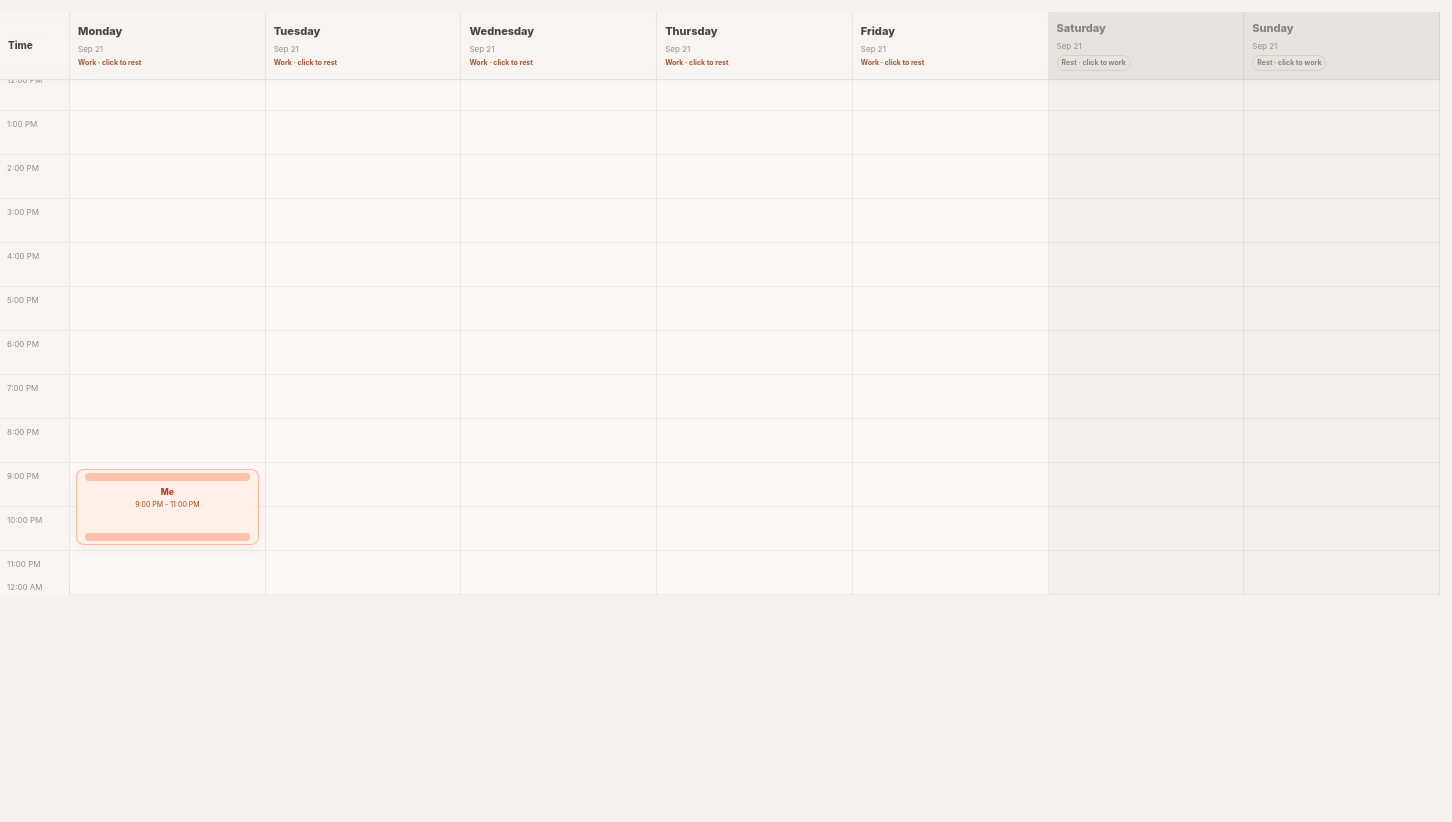
Test: EditableTeamCalendar pointer gestures › shows all 24 hours and resizes a late block through midnight
(page scrolled)
Press the mouse on the button named "Resize selected schedule block" at (167, 537), box [85, 533, 250, 541]
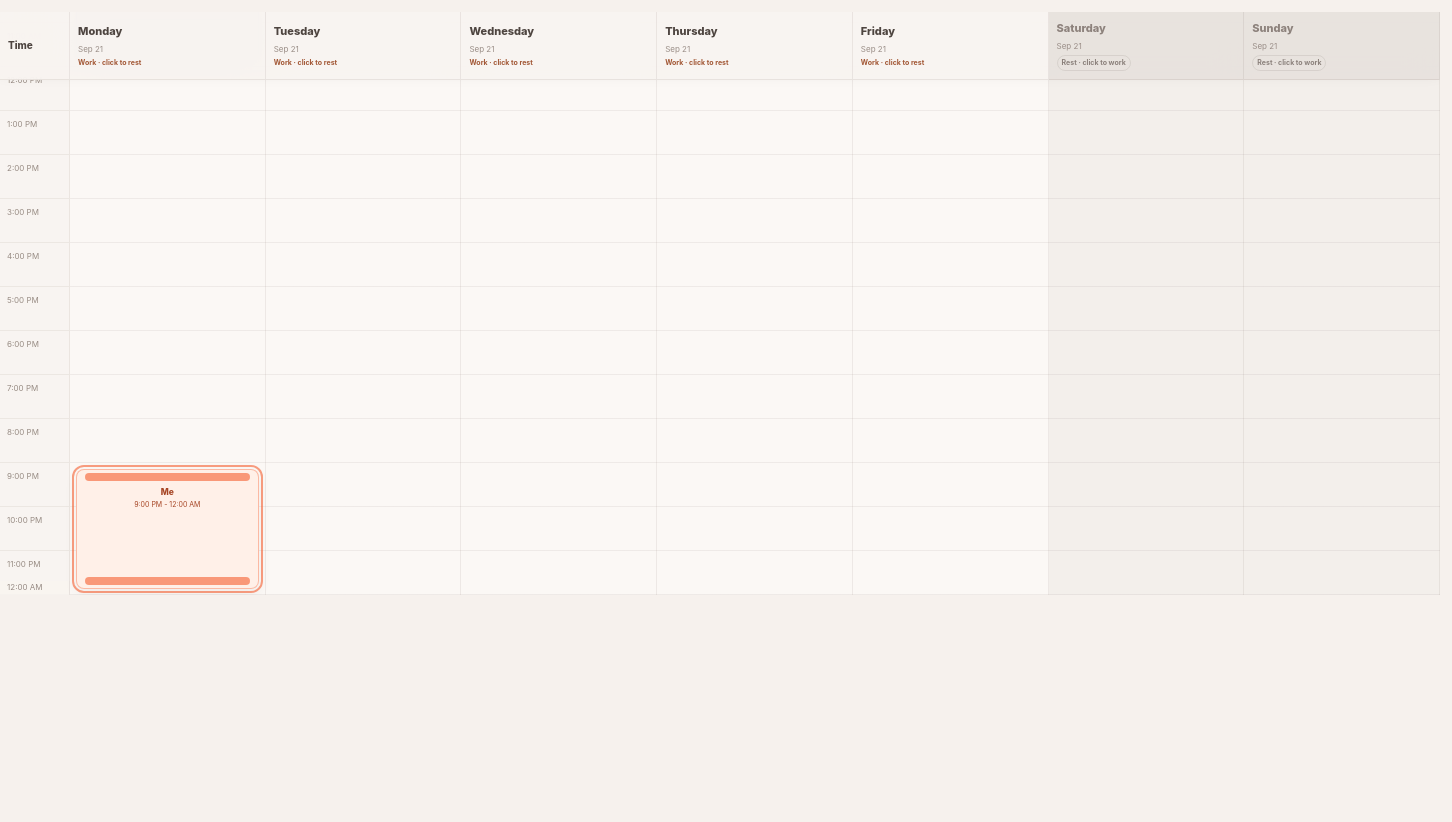
Expected: the button with aria-label "Select Monday schedule block, 9:00 PM to 12:00 AM" is shown, [76, 469, 259, 589]
